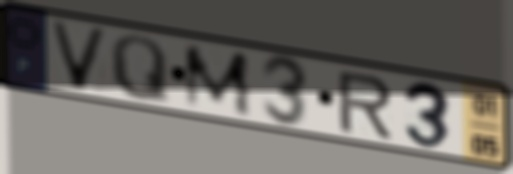3: (401, 78, 459, 152), (259, 52, 311, 134)
M: (181, 43, 256, 119)
Q: (107, 33, 173, 108)
R: (335, 69, 396, 141)
V: (46, 18, 113, 94)
